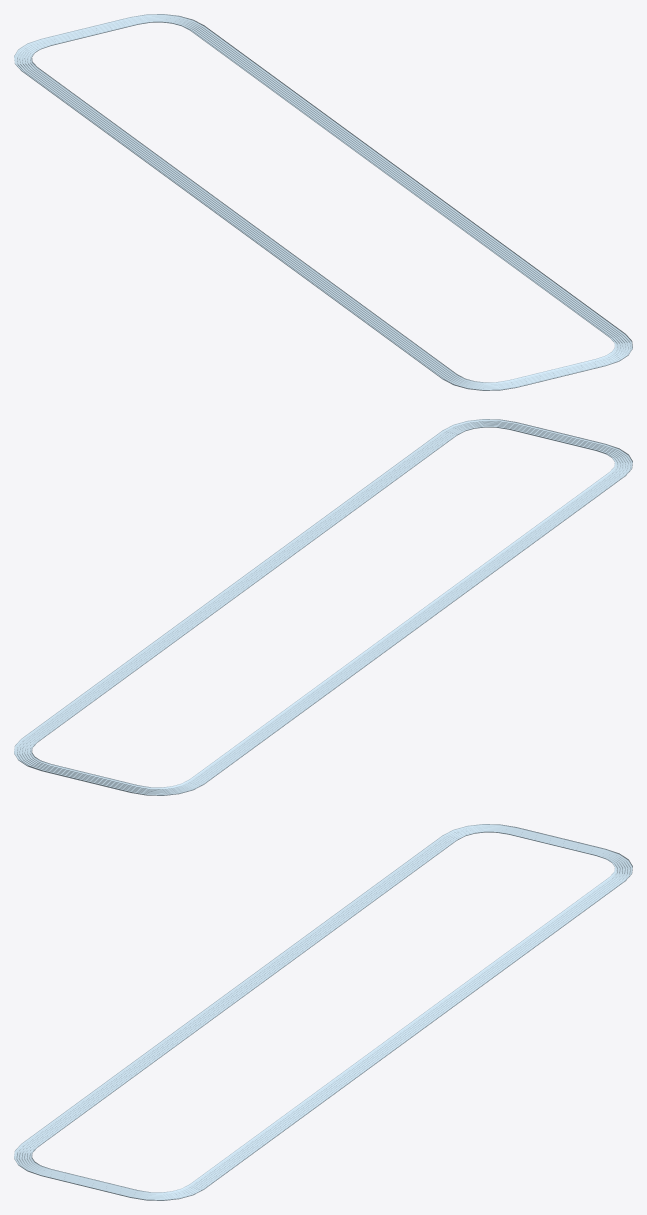
Rendered from StandardApartmentCeilingLight_mesh.fbx.
The picture shows the model from 3 angles, top to bottom: view 1: azimuth 30°, elevation 25°; view 2: azimuth 150°, elevation 25°; view 3: azimuth 330°, elevation 25°; orthographic projection.
Parts seen in each view (by area): view 1: StandardApartmentCeilingLight_mesh; view 2: StandardApartmentCeilingLight_mesh; view 3: StandardApartmentCeilingLight_mesh.
Boxes of the visible parts, bbox=[...] form: StandardApartmentCeilingLight_mesh: bbox=[14, 14, 632, 390]; StandardApartmentCeilingLight_mesh: bbox=[14, 419, 632, 795]; StandardApartmentCeilingLight_mesh: bbox=[14, 824, 632, 1200].
Bounding box in the file's own units: 127 × 1.19 × 572.
